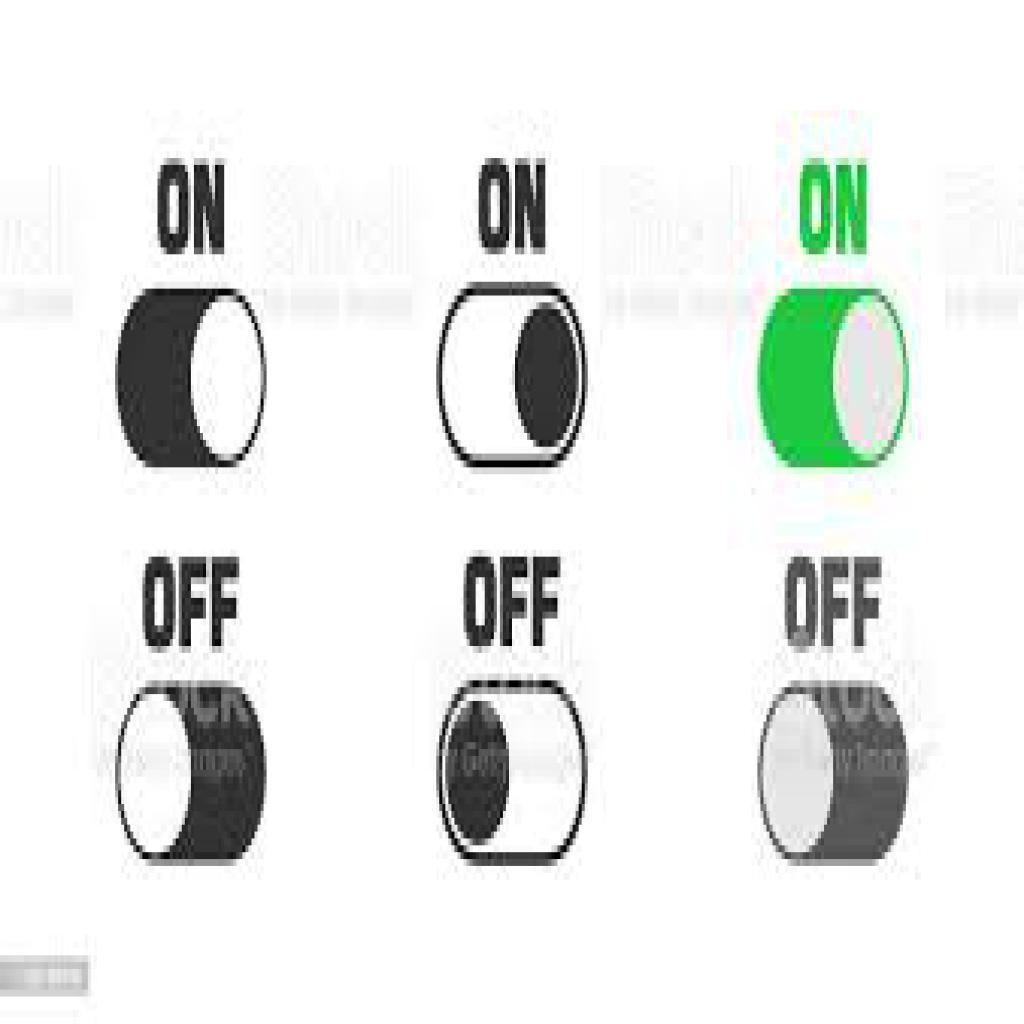switch: (755, 681, 915, 867), (436, 678, 588, 871), (436, 283, 590, 469), (116, 289, 271, 472), (756, 289, 912, 470), (115, 683, 267, 867)
